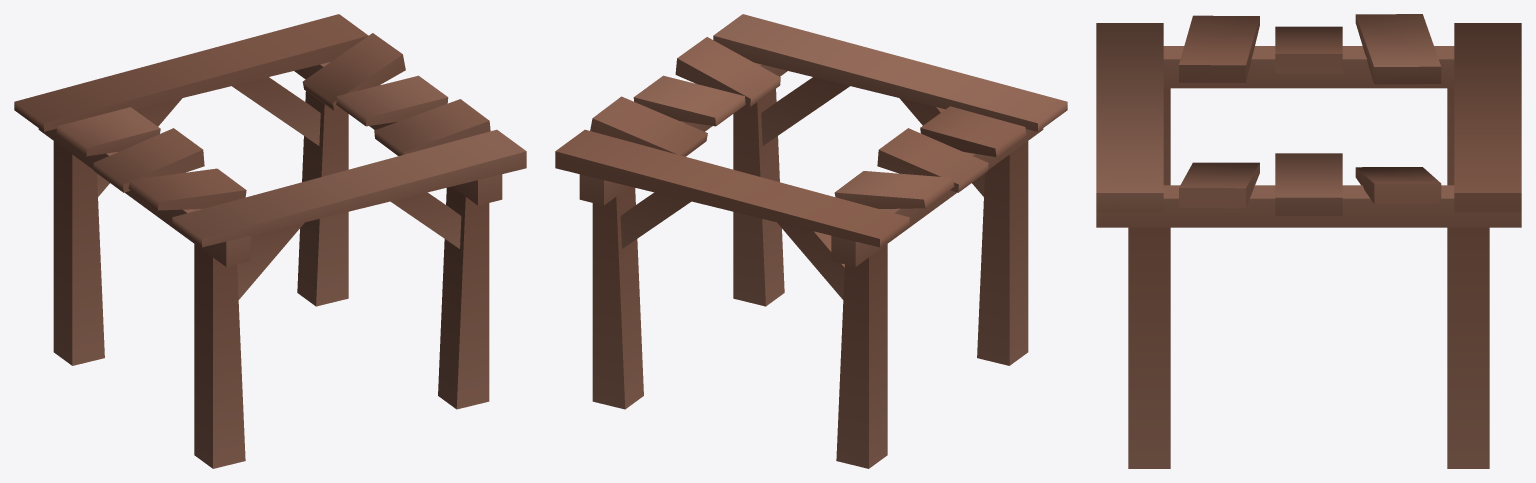
Rendered from template-floor-layer-hole.obj.
3 renders of one model, left to right at view 1: azimuth 30°, elevation 25°; view 2: azimuth 150°, elevation 25°; view 3: azimuth 270°, elevation 25°, orthographic. The views are drawn at different scales.
Visible parts, largest first — view 1: template-floor-layer-hole; view 2: template-floor-layer-hole; view 3: template-floor-layer-hole.
Boxes of the visible parts, x1,y1,x2,y2 form: template-floor-layer-hole: [14, 14, 526, 468]; template-floor-layer-hole: [555, 14, 1067, 468]; template-floor-layer-hole: [1096, 14, 1521, 468].
Bounding box in the file's own units: 4.04 × 3.09 × 4.
1 material, 1 textured.
